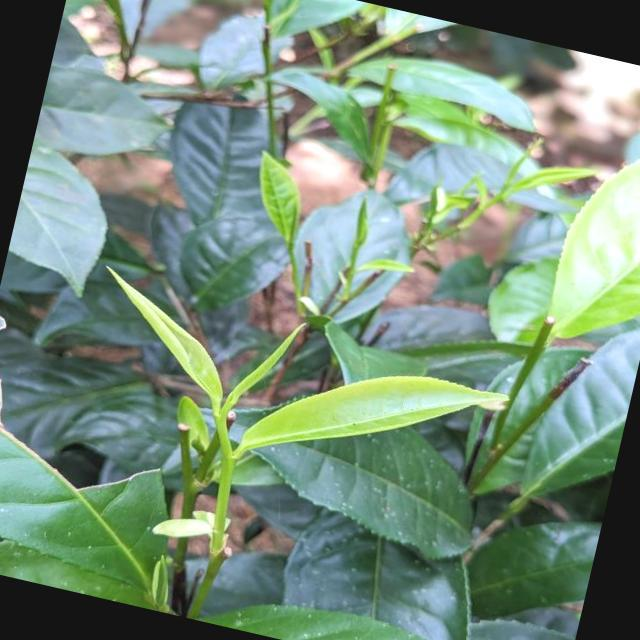Stem: (214, 416, 226, 432), (289, 250, 295, 256)
